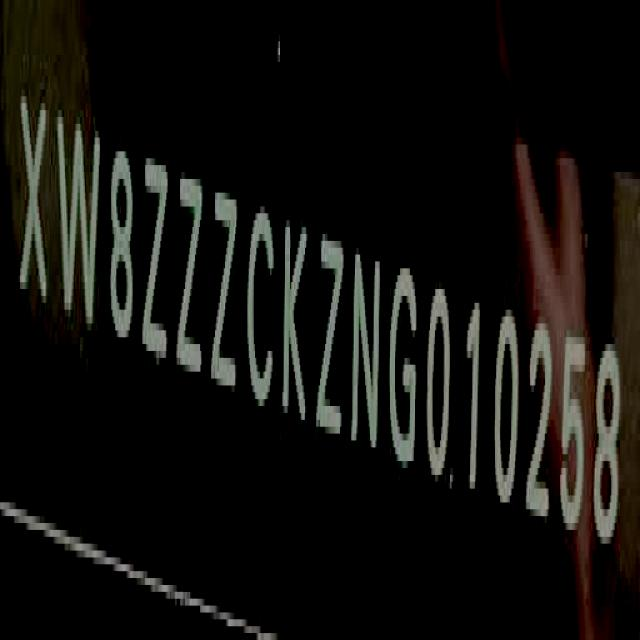0: (424, 271, 453, 494), (494, 292, 522, 518)
1: (465, 284, 483, 506)
2: (526, 308, 554, 532)
5: (559, 318, 586, 546)
8: (109, 134, 136, 358), (594, 338, 622, 552)
C: (246, 193, 277, 417)
G: (388, 262, 418, 487)
K: (280, 209, 308, 423)
N: (351, 242, 382, 472)
W: (54, 96, 102, 345)
X: (16, 78, 51, 322)
Z: (210, 164, 240, 404), (178, 150, 206, 394), (316, 217, 345, 451), (140, 142, 168, 378)
